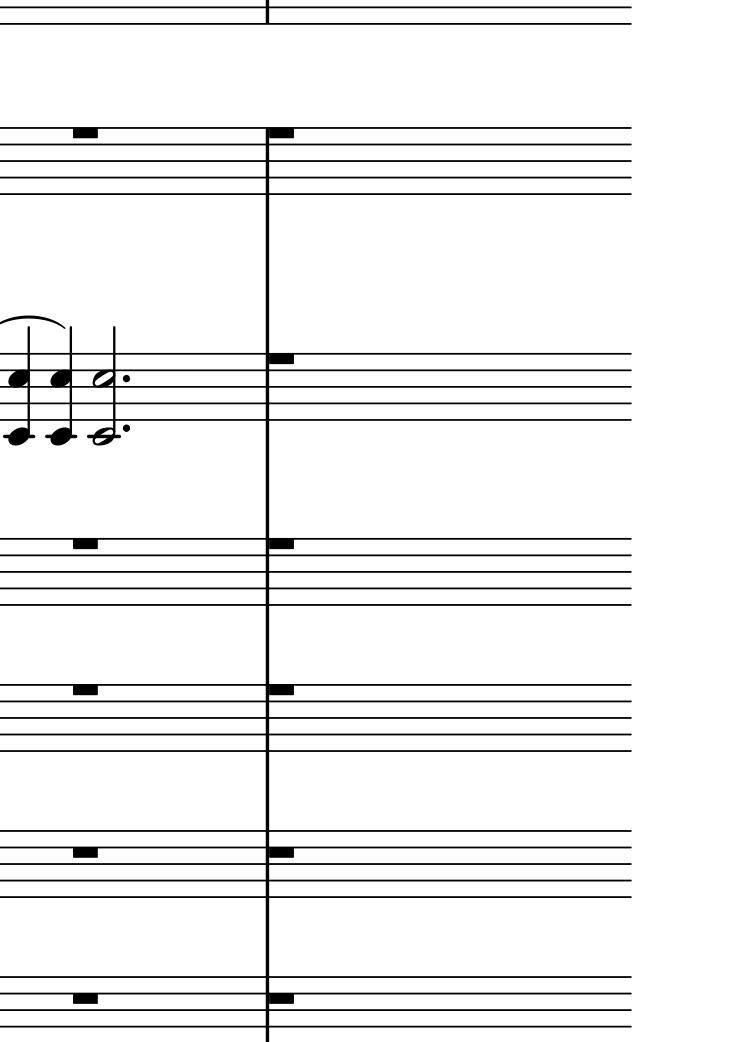2_-2_5: (87, 326, 120, 448)
4_-2_5: (3, 325, 36, 447), (43, 326, 76, 448)
Rests1: (67, 840, 109, 860), (260, 988, 298, 1010), (65, 988, 109, 1007), (265, 346, 298, 369), (68, 679, 103, 700), (68, 534, 102, 555), (261, 681, 300, 699), (263, 535, 301, 553), (262, 843, 300, 861), (69, 121, 99, 142), (265, 124, 300, 142)
Single_barline: (253, 684, 283, 752), (253, 830, 282, 899), (255, 537, 283, 606), (255, 128, 280, 195), (256, 355, 281, 421)
dot: (118, 368, 135, 390), (119, 418, 136, 436)
